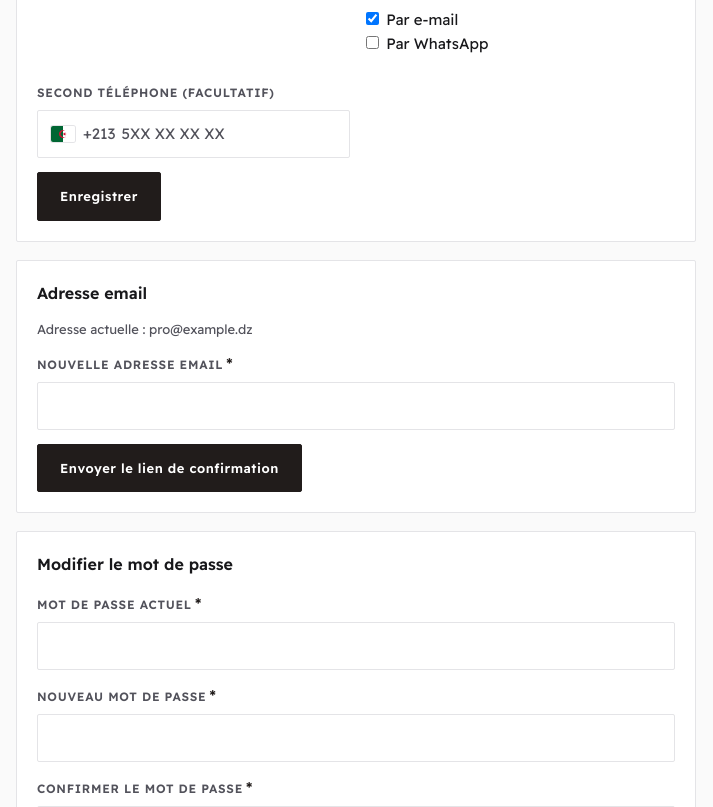
écran e-mail › après envoi : annonce que l'ANCIENNE adresse reste active
(page scrolled)
Step 1. Type "neuf@example.dz" into the field labelled "Nouvelle adresse email" → (356, 406), box x1=37 y1=382 x2=675 y2=430
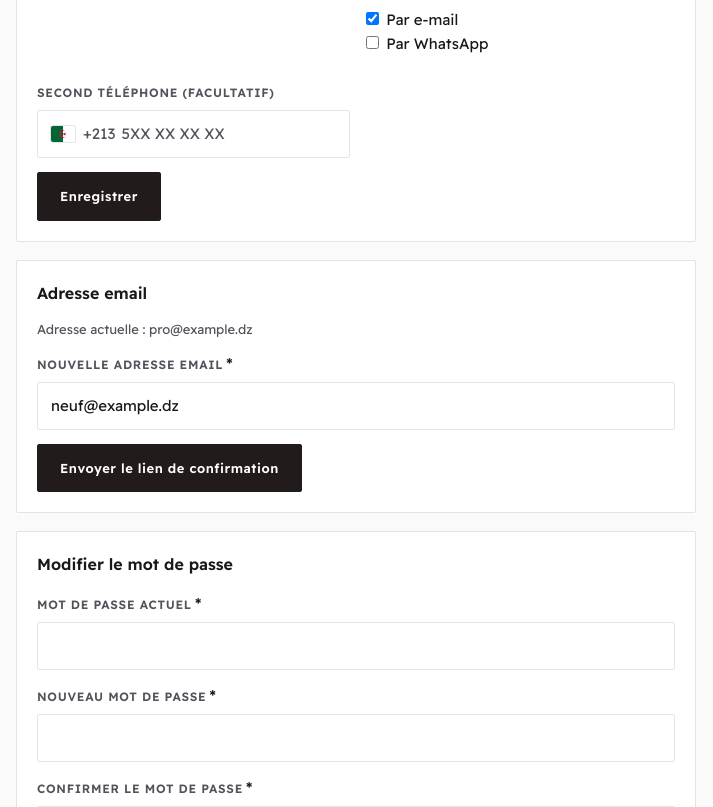
Step 2. Click the button "Envoyer le lien de confirmation" → click(169, 468), box x1=37 y1=444 x2=302 y2=492
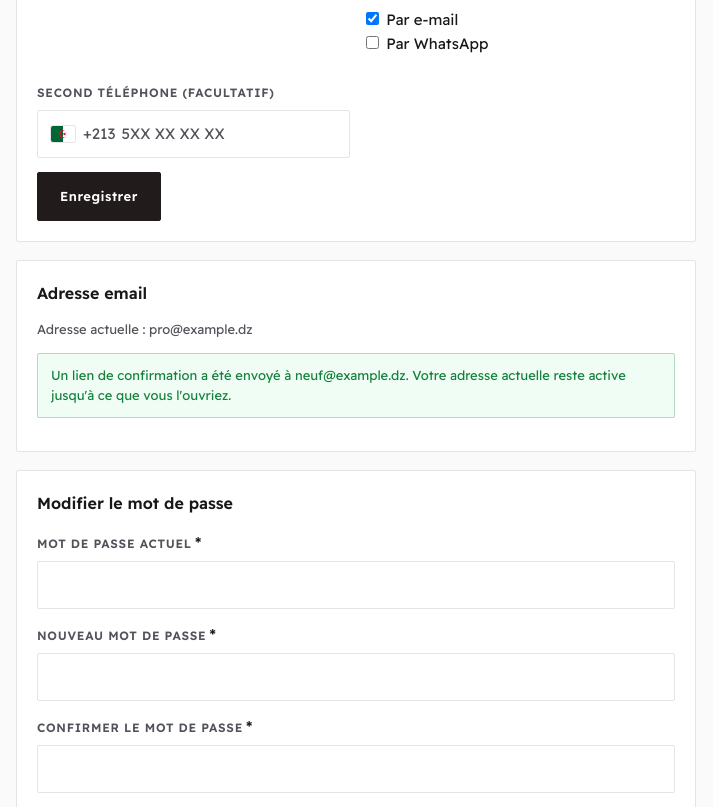
Expected: the text "reste active jusqu'à ce que vous l'ouvriez" is shown, x1=51 y1=367 x2=626 y2=403
